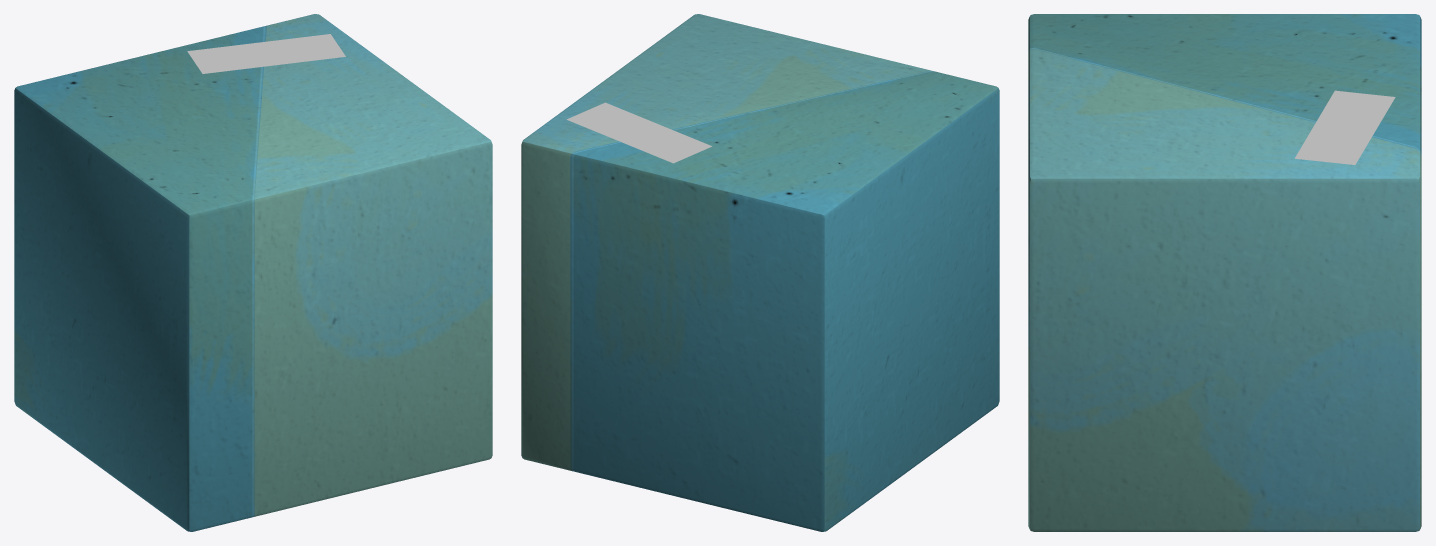
The model's file is TOMB_GROUND_1_001.obj.
3 renders of one model, left to right at view 1: azimuth 30°, elevation 25°; view 2: azimuth 150°, elevation 25°; view 3: azimuth 270°, elevation 25°, orthographic. The views are drawn at different scales.
Visible parts, largest first — view 1: TOMB_GROUND_1_001; view 2: TOMB_GROUND_1_001; view 3: TOMB_GROUND_1_001.
Boxes of the visible parts, x1,y1,x2,y2 form: TOMB_GROUND_1_001: (14,14,492,531); TOMB_GROUND_1_001: (521,14,999,531); TOMB_GROUND_1_001: (1028,14,1421,531).
Size of the model in its own units: 1 by 1.01 by 1.
